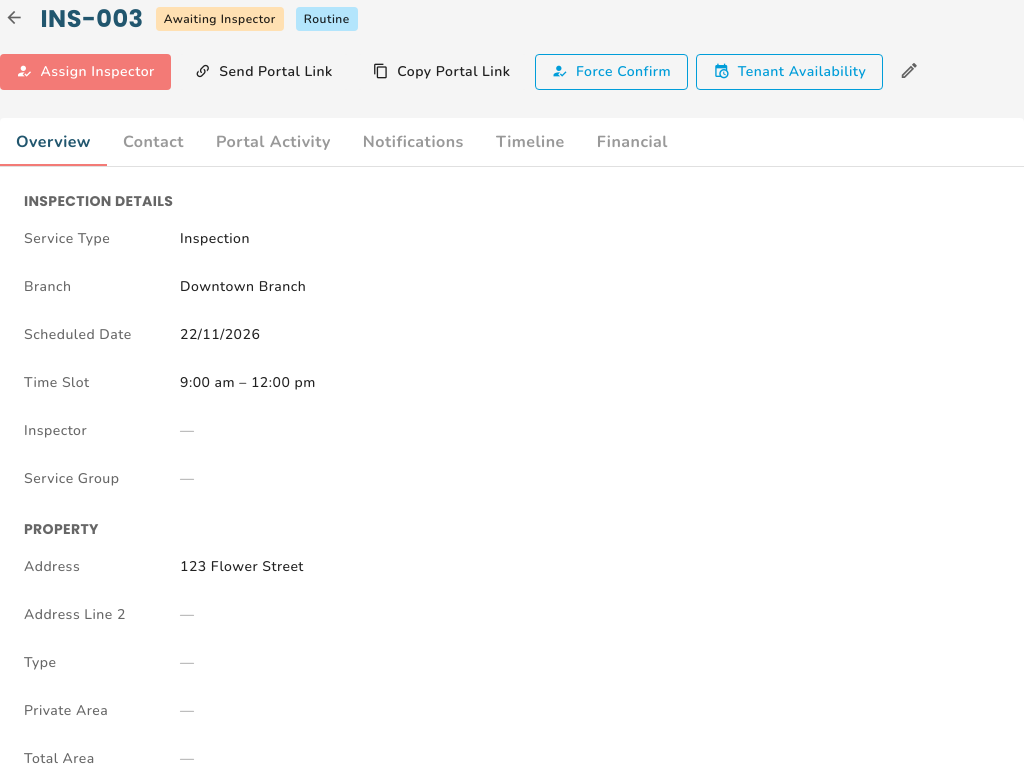
AppointmentDetailPage — Copy Portal Link generate-only modal › opens the confirmation modal instead of copying when no token exists
Click the button with test id "copy-portal-link-button".
click(442, 72)  # box [357,54,526,90]
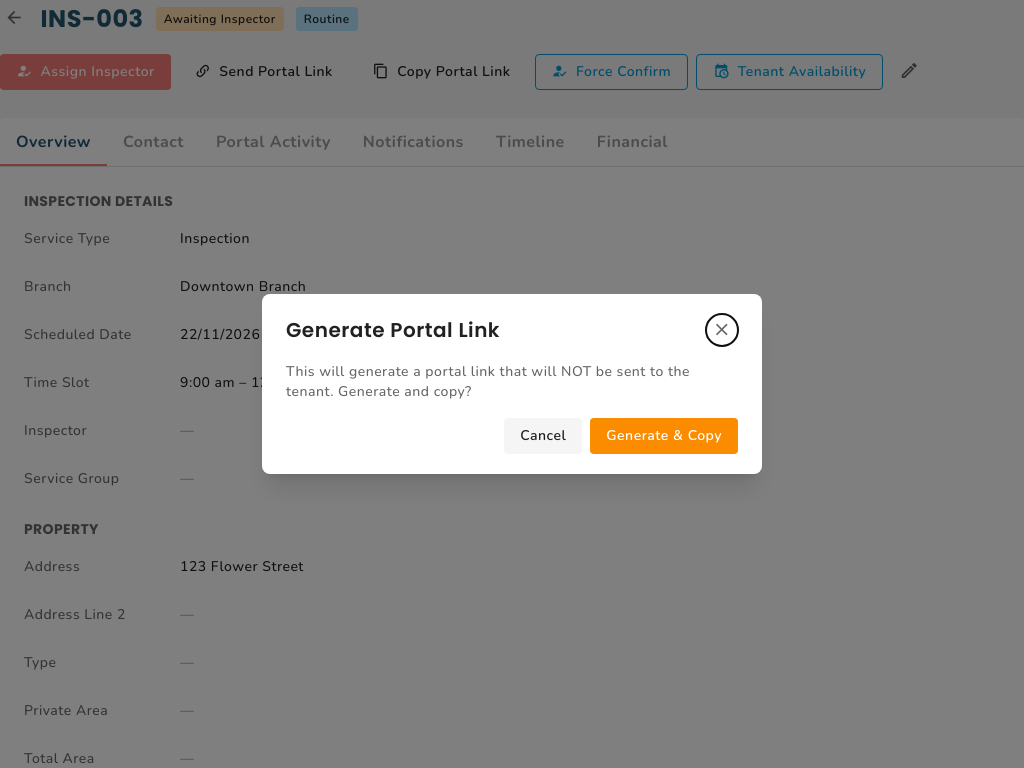
Check: the text "will NOT be sent to the tenant" is shown, box [286,362,690,401]
